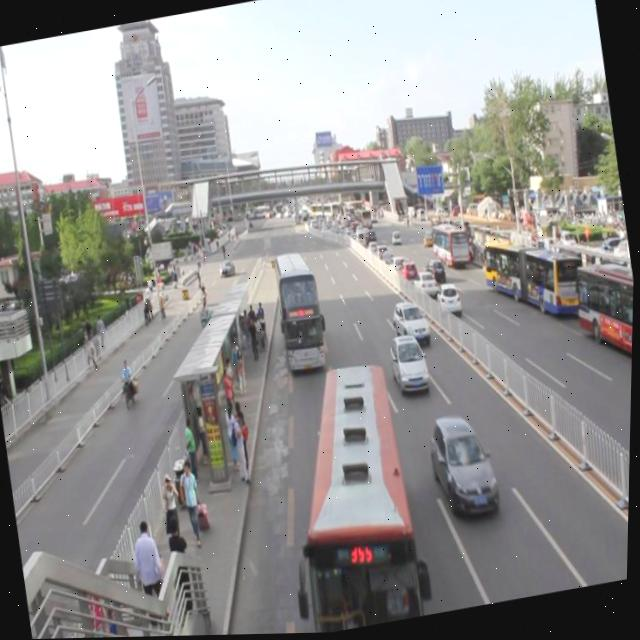car: (423, 410, 507, 530), (385, 331, 436, 400), (388, 297, 433, 349)
van: (263, 358, 442, 635), (266, 248, 335, 382)
